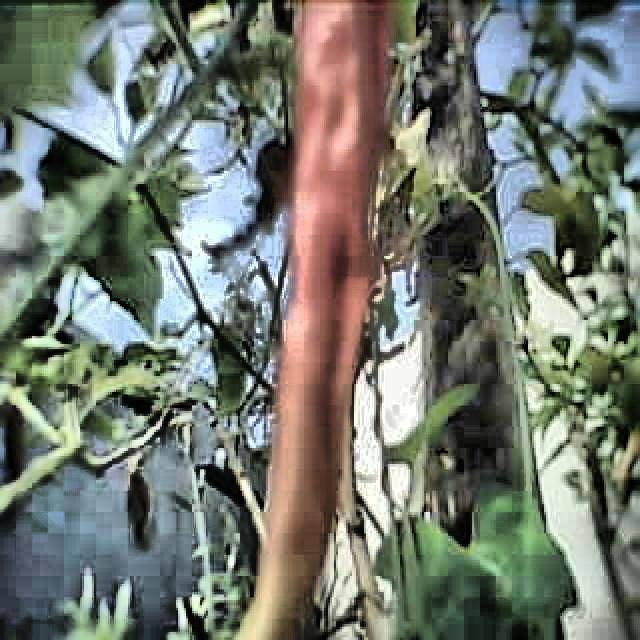Cabai: (280, 0, 351, 640)
